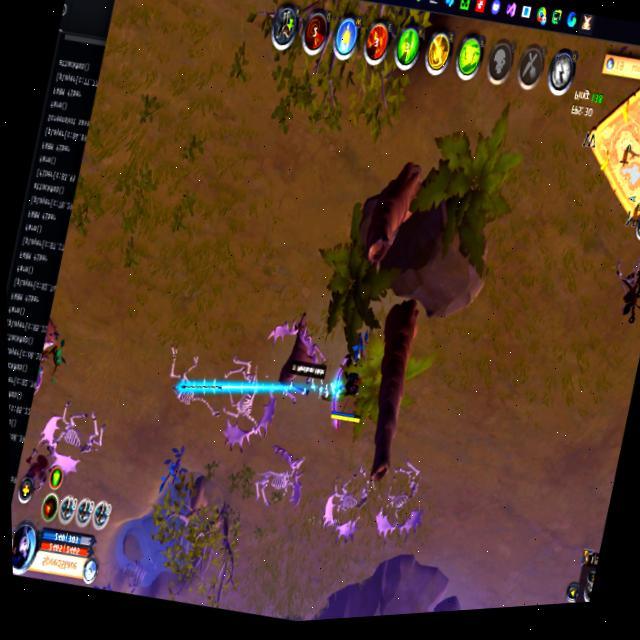mob: (256, 306, 334, 399)
ore: (601, 251, 640, 322)
red: (325, 359, 369, 428)
